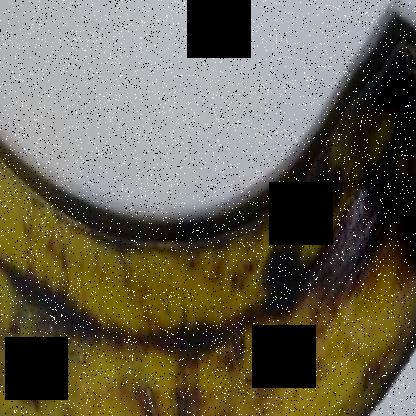overripe: (0, 20, 415, 415)
rotten: (299, 33, 416, 296)
